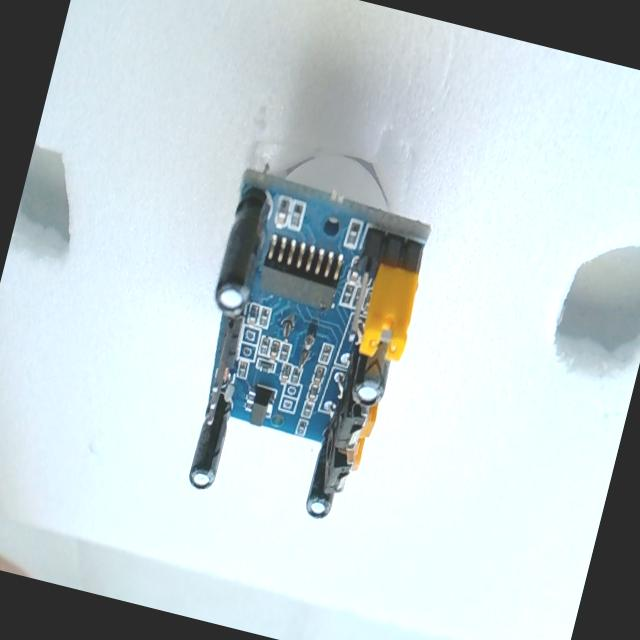Electrolytic capacitor: (208, 187, 276, 317), (186, 392, 236, 492), (302, 432, 348, 522), (348, 336, 397, 411)
IC: (255, 229, 348, 312)
pinheader: (220, 315, 245, 375)
